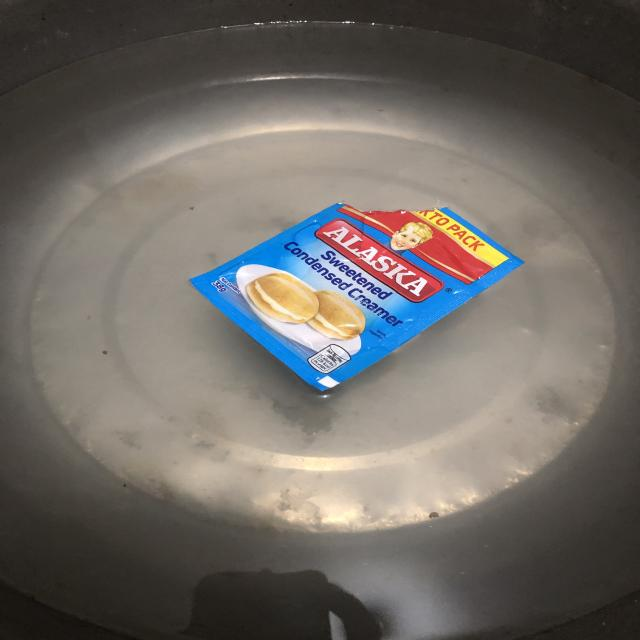Plastic Wrapper: (185, 203, 528, 397)
